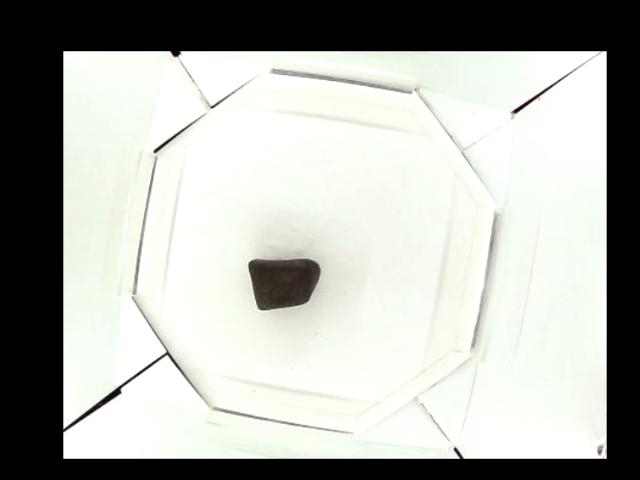Pebble: (247, 260, 326, 311)
